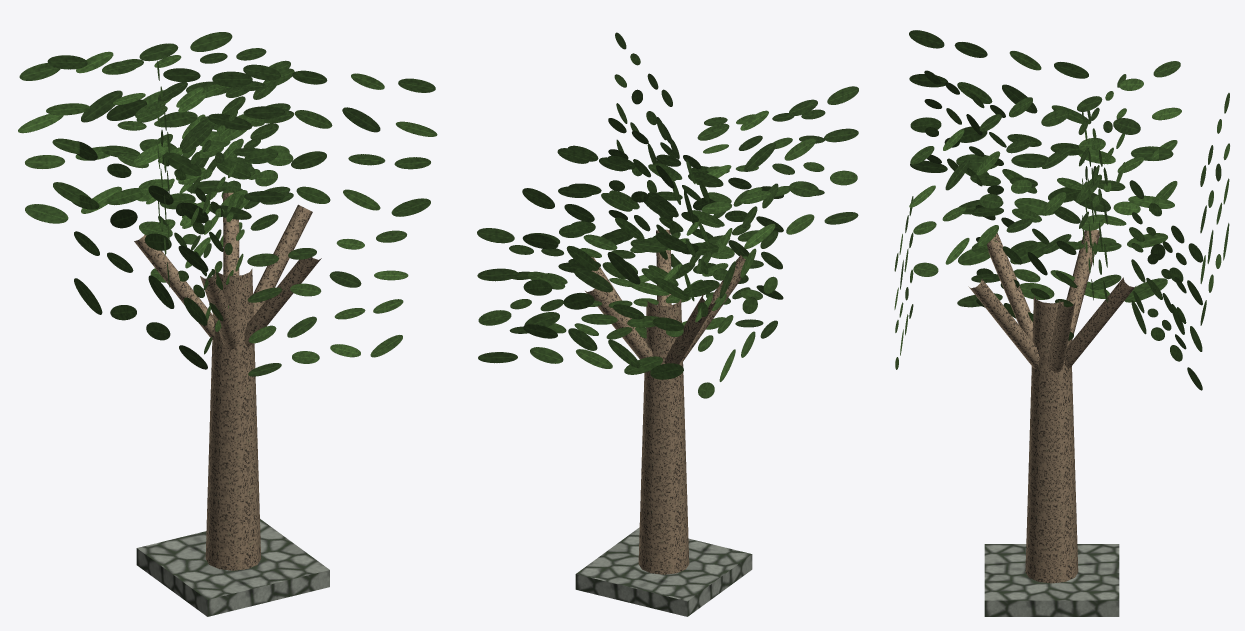
File: tree.gltf
The picture shows the model from 3 angles, left to right: view 1: azimuth 30°, elevation 25°; view 2: azimuth 150°, elevation 25°; view 3: azimuth 270°, elevation 25°; orthographic projection. The views are drawn at different scales.
Visible parts, largest first — view 1: LocustTree; view 2: LocustTree; view 3: LocustTree.
Part boxes in pixels (box(x1,y1,x2,y2)): LocustTree: box(18, 32, 437, 616); LocustTree: box(477, 32, 858, 616); LocustTree: box(894, 30, 1229, 616).
Bounding box in the file's own units: 3.35 × 6.26 × 3.75.
3 materials, 3 textured.
